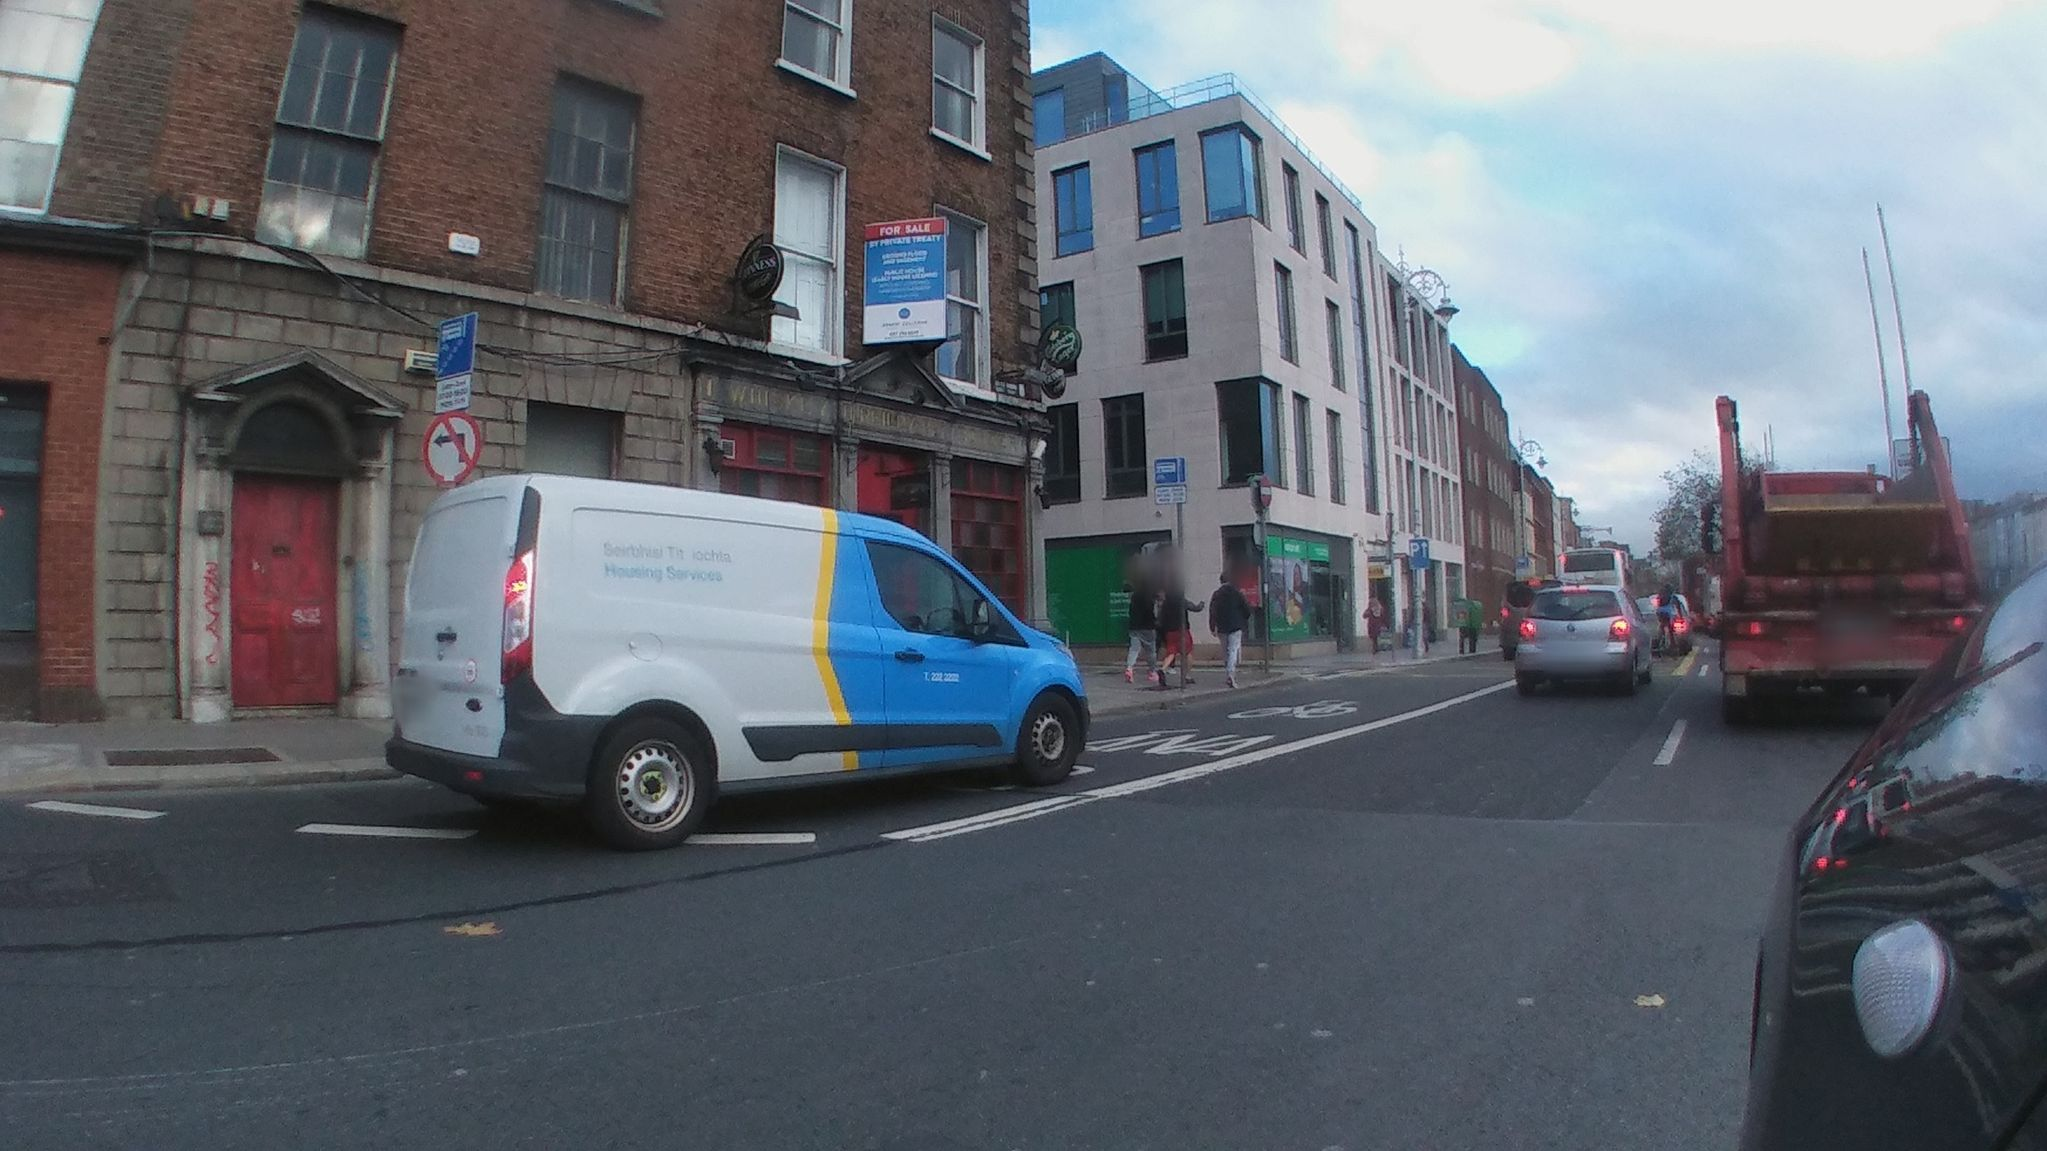property sign: (860, 204, 957, 356)
